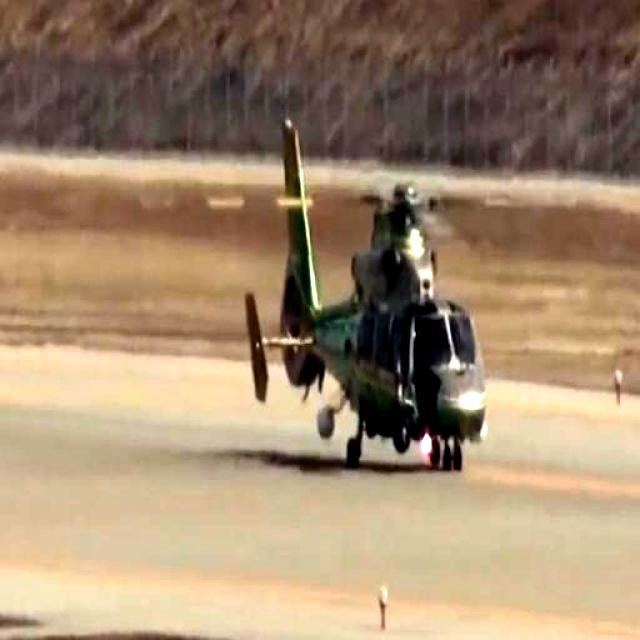drone: (244, 116, 488, 474)
